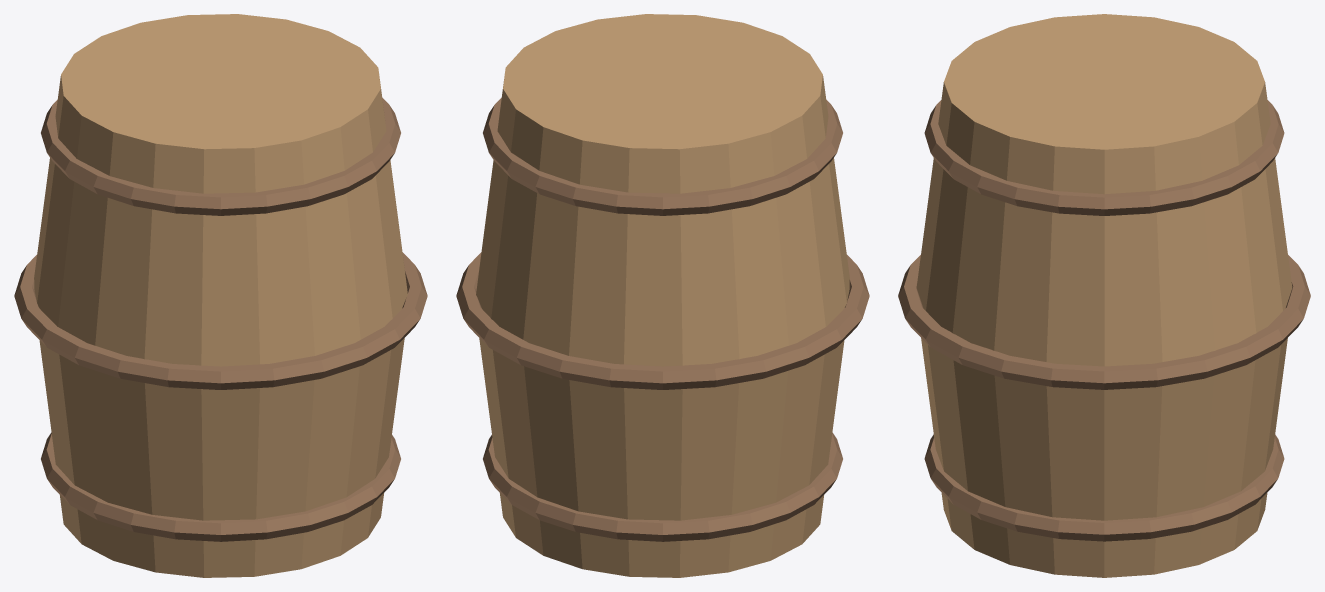
The model's file is HOB_Barrel.fbx.
3 renders of one model, left to right at view 1: azimuth 30°, elevation 25°; view 2: azimuth 150°, elevation 25°; view 3: azimuth 270°, elevation 25°, orthographic.
Visible parts, largest first — view 1: HOB_Barrel; view 2: HOB_Barrel; view 3: HOB_Barrel.
Part boxes in pixels (x1=…): HOB_Barrel: x1=14, y1=14, x2=427, y2=577; HOB_Barrel: x1=456, y1=14, x2=869, y2=577; HOB_Barrel: x1=898, y1=14, x2=1310, y2=577.
Size of the model in its own units: 87.4 by 100 by 87.4.
